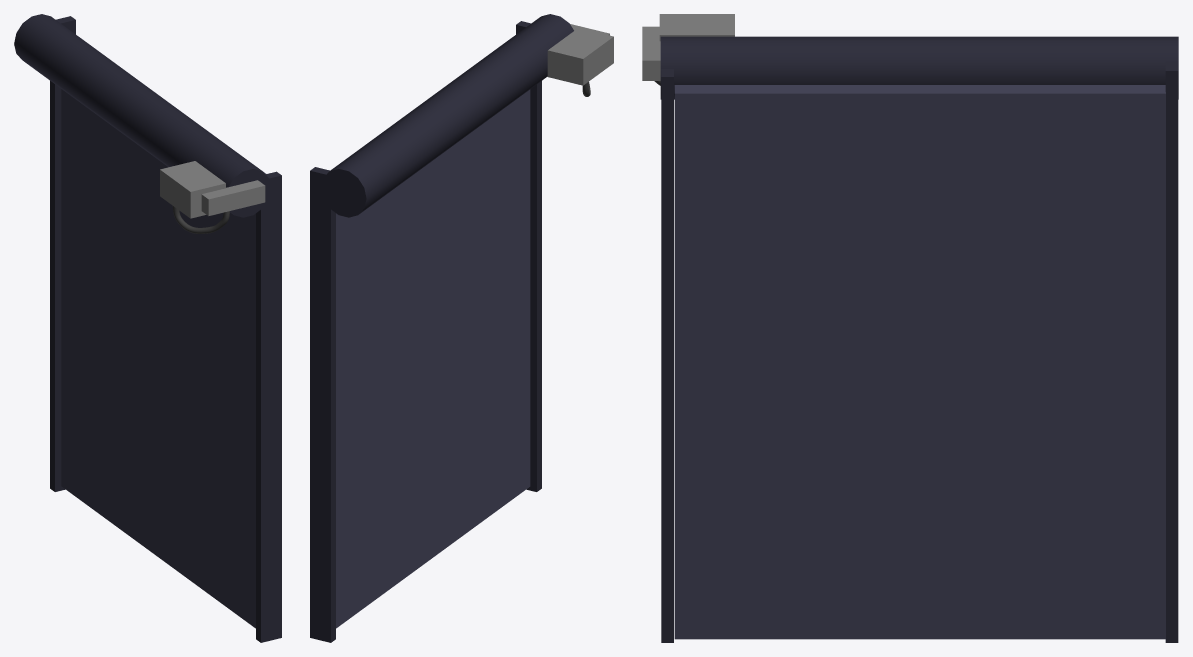
File: garage_door.glb
3 renders of one model, left to right at view 1: azimuth 30°, elevation 25°; view 2: azimuth 150°, elevation 25°; view 3: azimuth 270°, elevation 25°, orthographic. The views are drawn at different scales.
Parts seen in each view (by area): view 1: g_door, roller, g_door_frame2, g_door_frame1, metal, tube1; view 2: g_door, roller, g_door_frame1, g_door_frame2, metal; view 3: g_door, roller, g_door_frame1, g_door_frame2, metal.
Part boxes in pixels (left/top/right/bottom): g_door: left=61, top=45, right=265, bottom=628; roller: left=14, top=14, right=270, bottom=217; g_door_frame2: left=256, top=171, right=281, bottom=642; g_door_frame1: left=50, top=16, right=75, bottom=491; metal: left=160, top=161, right=265, bottom=218; tube1: left=172, top=206, right=229, bottom=233; g_door: left=336, top=40, right=530, bottom=628; roller: left=321, top=14, right=573, bottom=217; g_door_frame1: left=310, top=167, right=335, bottom=642; g_door_frame2: left=516, top=21, right=541, bottom=491; metal: left=547, top=24, right=613, bottom=85; g_door: left=674, top=85, right=1165, bottom=639; roller: left=660, top=36, right=1178, bottom=99; g_door_frame1: left=1165, top=61, right=1178, bottom=642; g_door_frame2: left=661, top=69, right=673, bottom=642; metal: left=642, top=14, right=734, bottom=80.
Bounding box in the file's own units: 0.8331 × 4 × 3.34.
